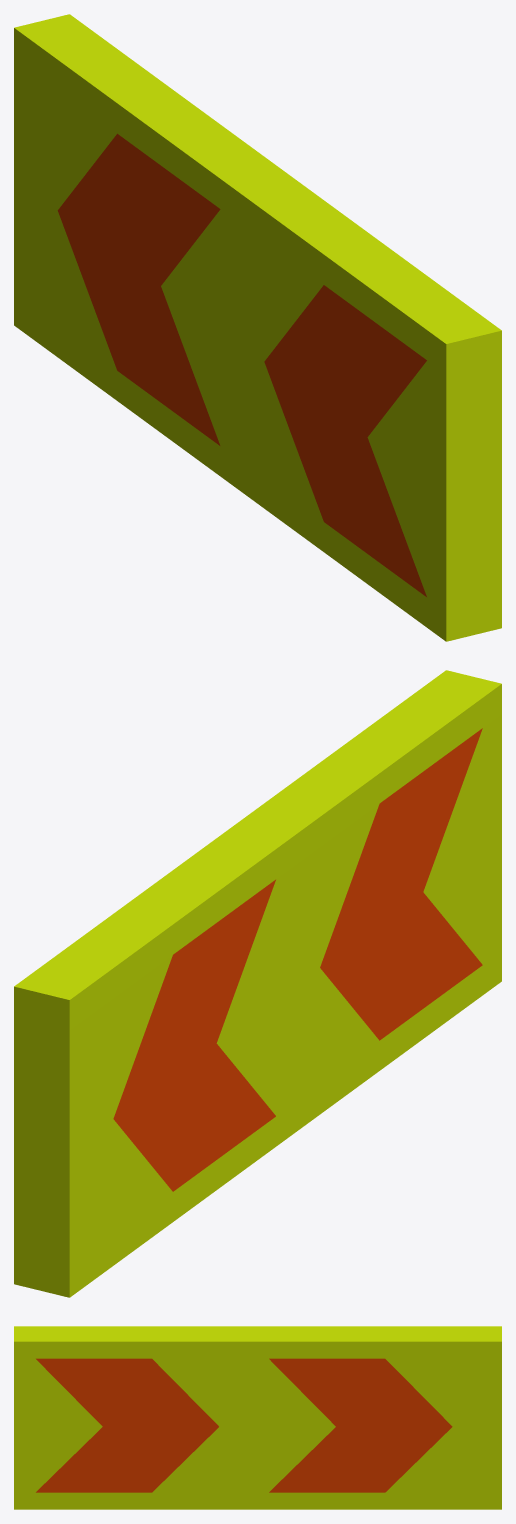
The model's file is Trampoline .fbx.
3 views of the same model, one above another, from view 1: azimuth 30°, elevation 25°; view 2: azimuth 150°, elevation 25°; view 3: azimuth 270°, elevation 25° (orthographic). The views are drawn at different scales.
Parts seen in each view (by area): view 1: Trampoline; view 2: Trampoline; view 3: Trampoline.
Part boxes in pixels (left/top/right/bottom): Trampoline: left=14, top=14, right=501, bottom=641; Trampoline: left=14, top=670, right=501, bottom=1297; Trampoline: left=14, top=1326, right=501, bottom=1509.
Size of the model in its own units: 49.16 by 251 by 661.
